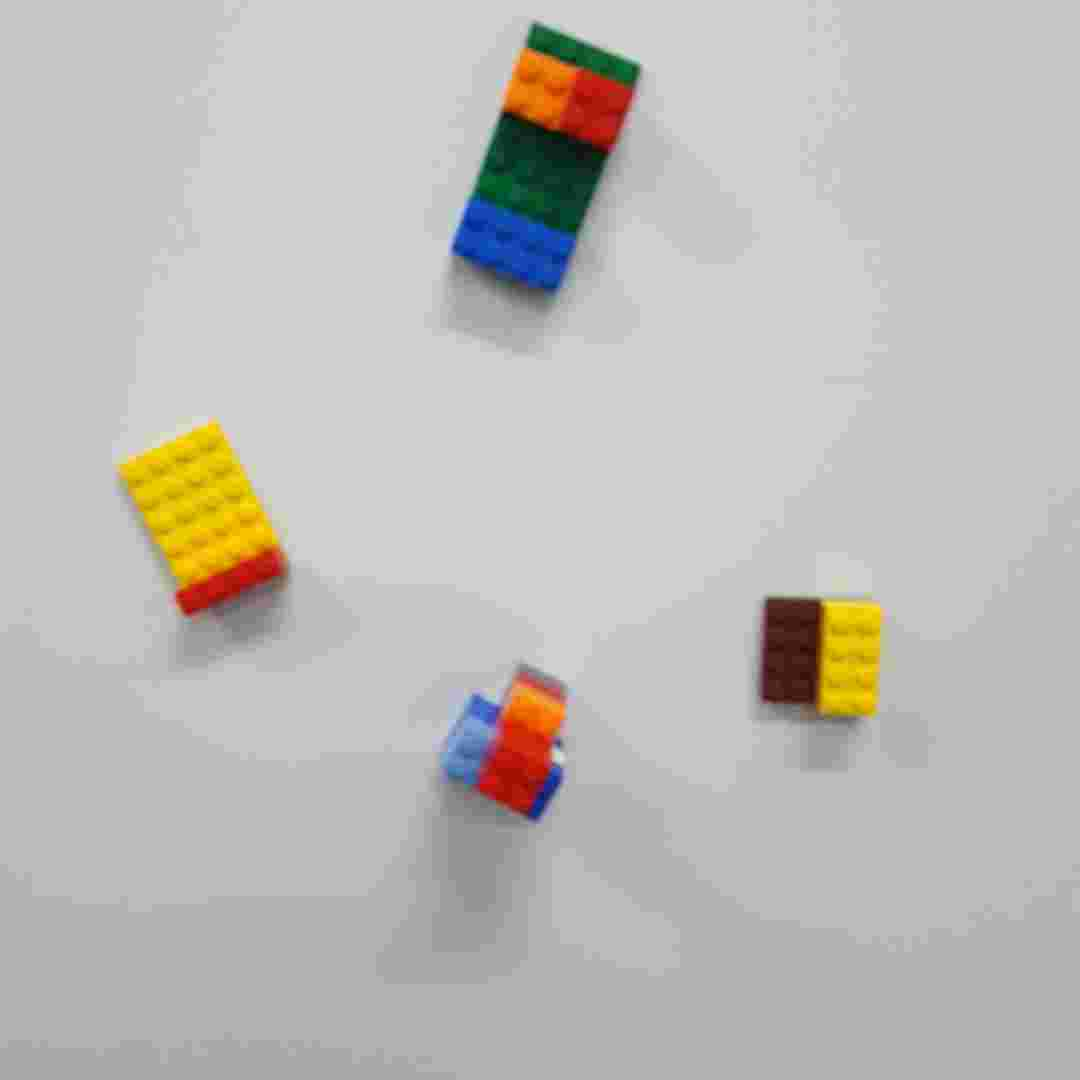LEGO: (451, 22, 643, 296), (115, 418, 293, 624), (437, 665, 580, 827), (755, 593, 882, 723)
